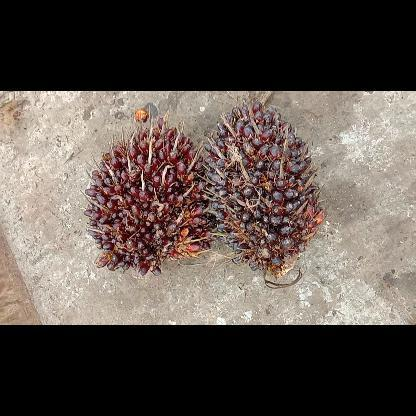Kurang masak: (206, 100, 324, 274)
TBS masak: (85, 116, 210, 274)
